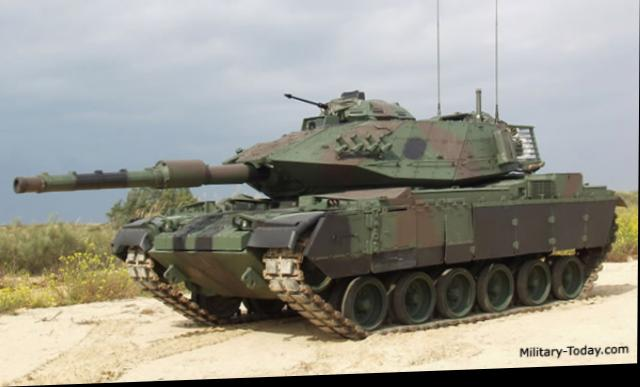tank: (122, 87, 621, 319)
